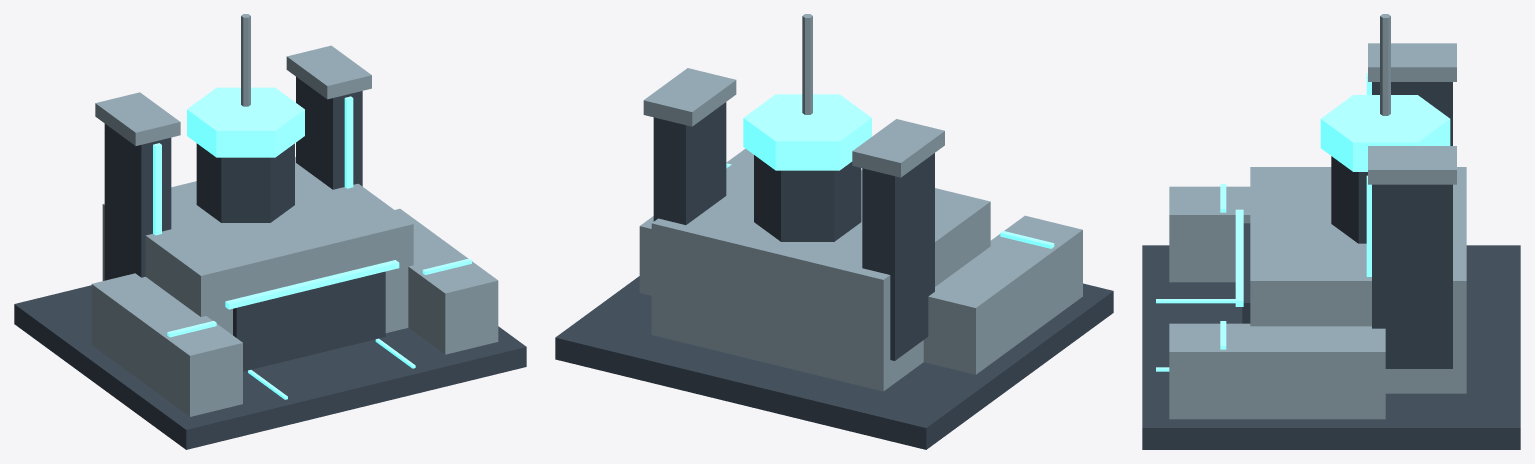
File: command-low.glb
The picture shows the model from 3 angles, left to right: view 1: azimuth 30°, elevation 25°; view 2: azimuth 150°, elevation 25°; view 3: azimuth 270°, elevation 25°; orthographic projection. The views are drawn at different scales.
Visible parts, largest first — view 1: command-low-Bastion graphite, command-low-Bastion titanium, command-low-Bastion ion channels; view 2: command-low-Bastion titanium, command-low-Bastion graphite, command-low-Bastion ion channels; view 3: command-low-Bastion titanium, command-low-Bastion graphite, command-low-Bastion ion channels.
Part boxes in pixels (x1=…): command-low-Bastion graphite: x1=14, y1=77, x2=526, y2=449; command-low-Bastion titanium: x1=91, y1=14, x2=498, y2=416; command-low-Bastion ion channels: x1=153, y1=87, x2=471, y2=399; command-low-Bastion titanium: x1=639, y1=14, x2=1082, y2=391; command-low-Bastion graphite: x1=555, y1=102, x2=1113, y2=449; command-low-Bastion ion channels: x1=726, y1=94, x2=1054, y2=248; command-low-Bastion titanium: x1=1169, y1=14, x2=1466, y2=419; command-low-Bastion graphite: x1=1142, y1=82, x2=1520, y2=449; command-low-Bastion ion channels: x1=1156, y1=73, x2=1450, y2=371.
Bounding box in the file's own units: 16 × 14 × 14.
